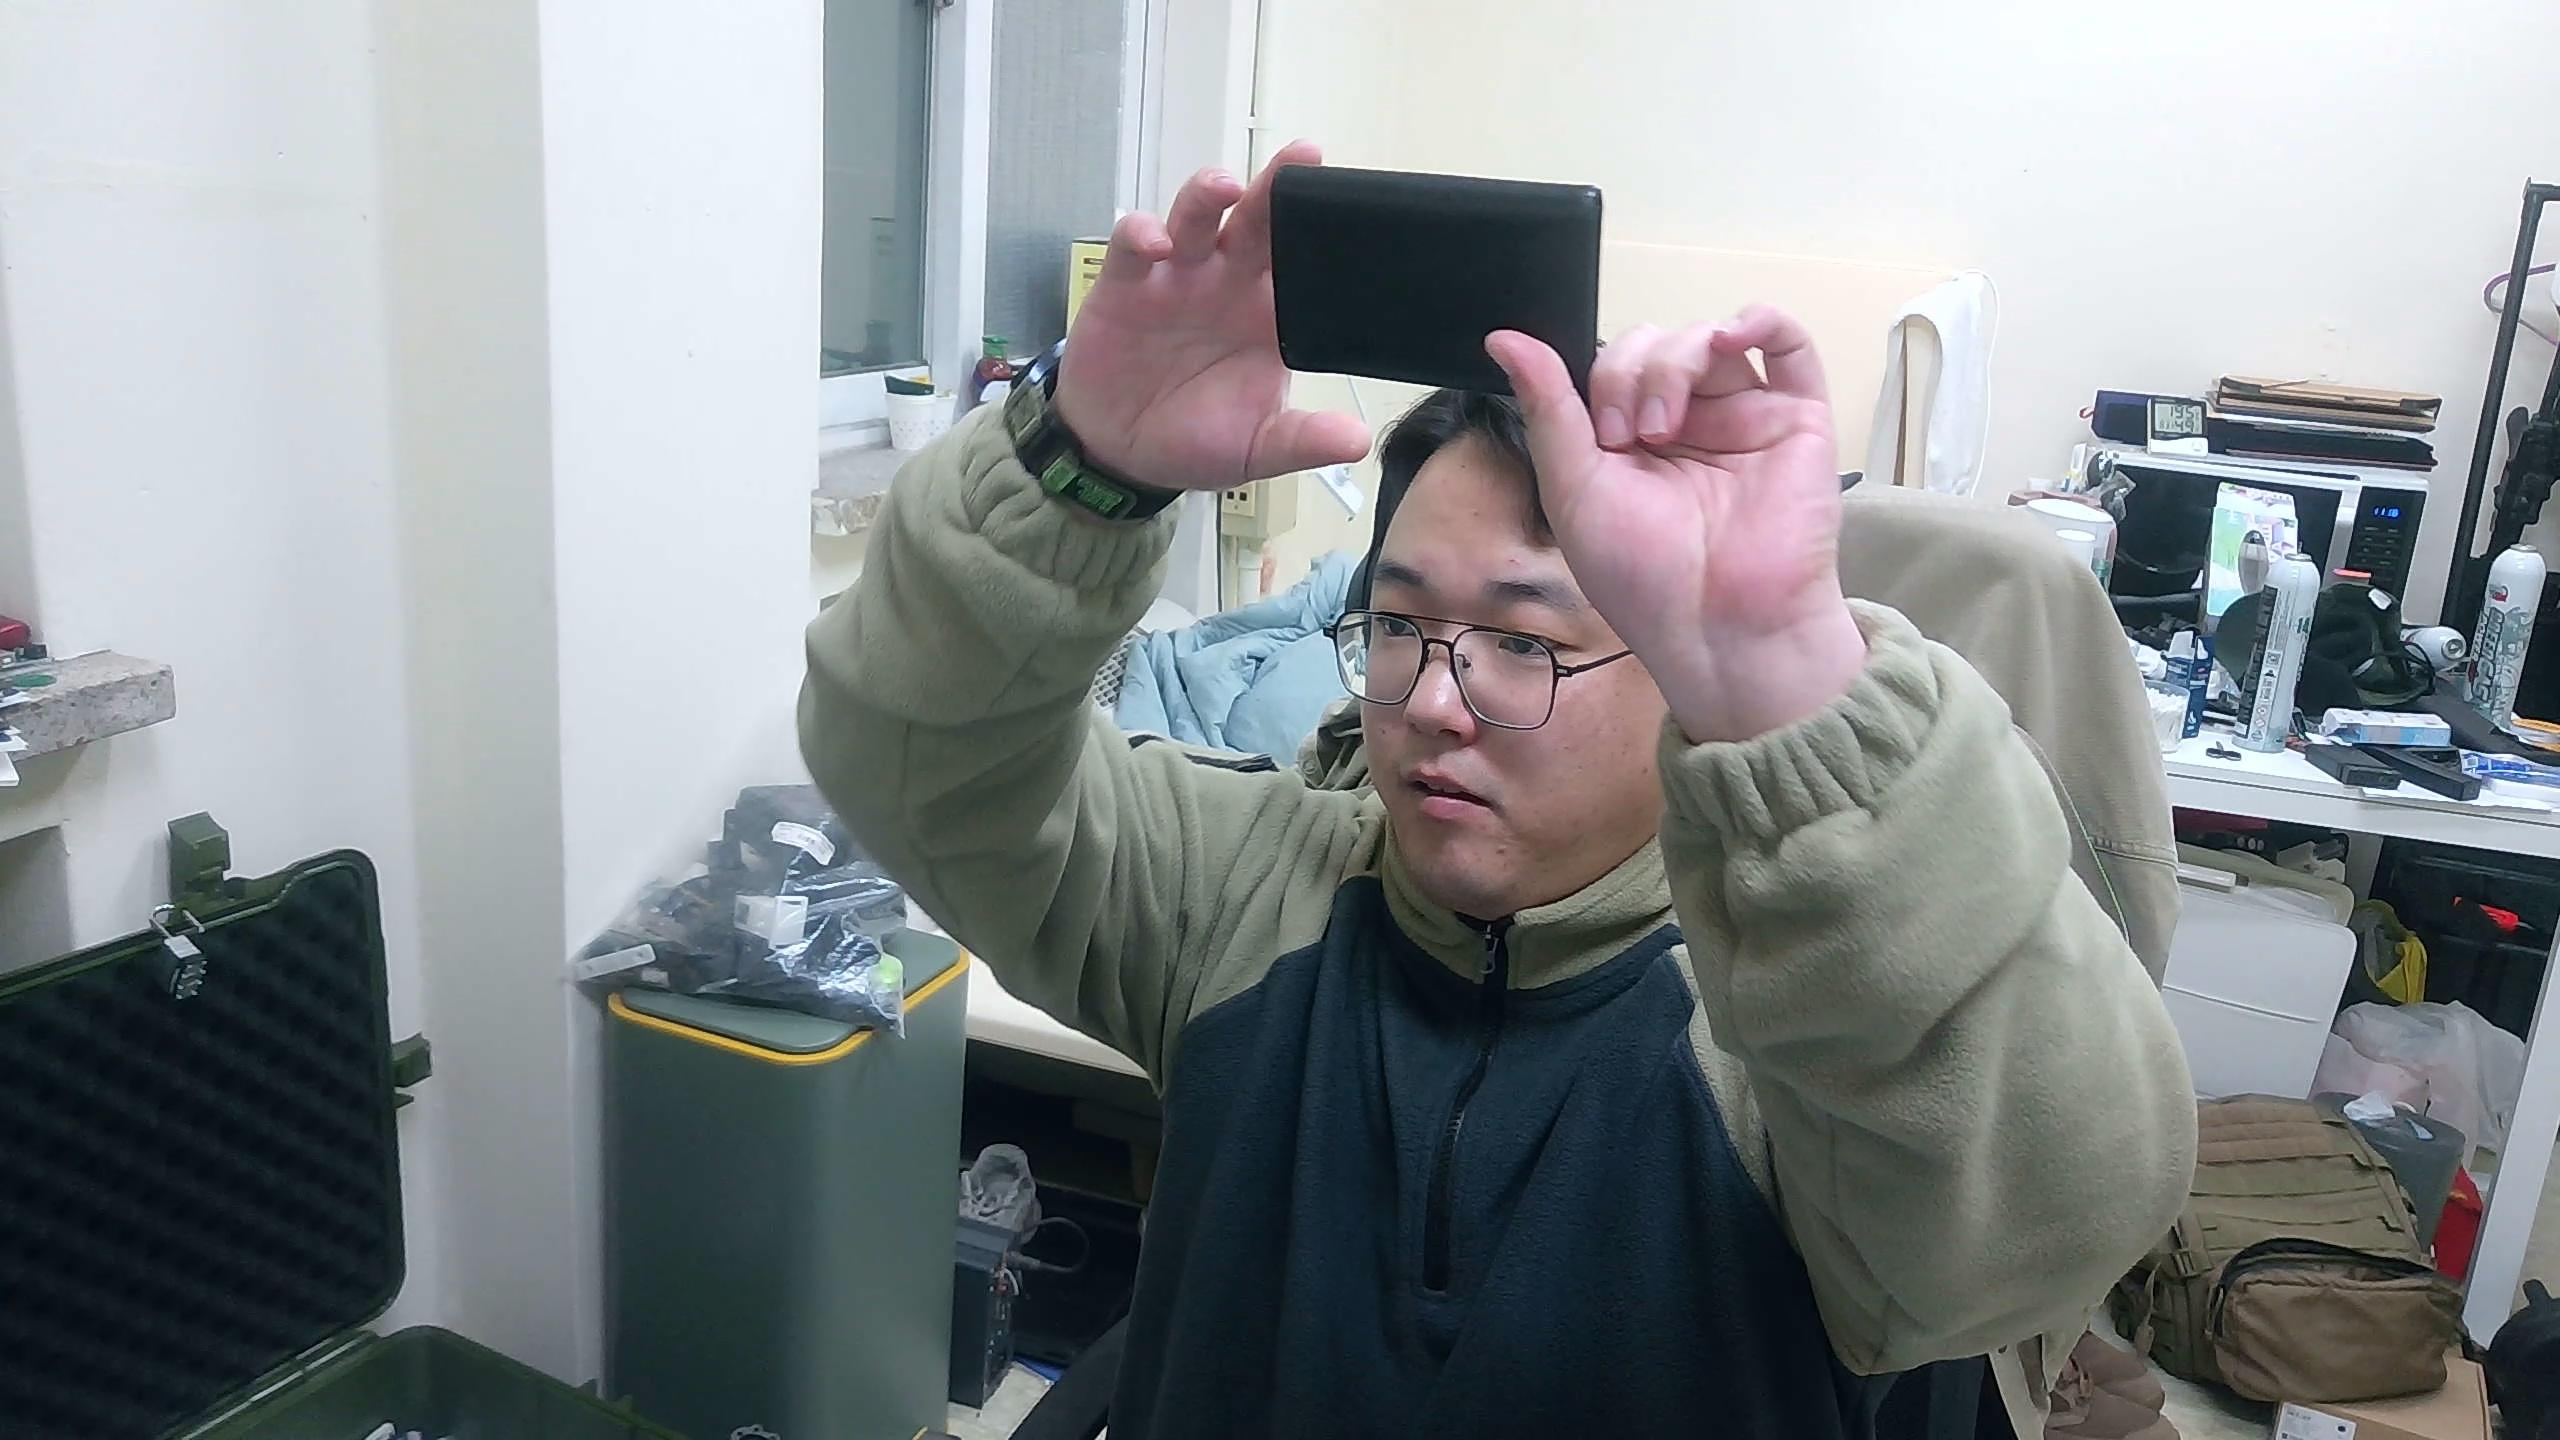earphone: (1268, 160, 1609, 403)
